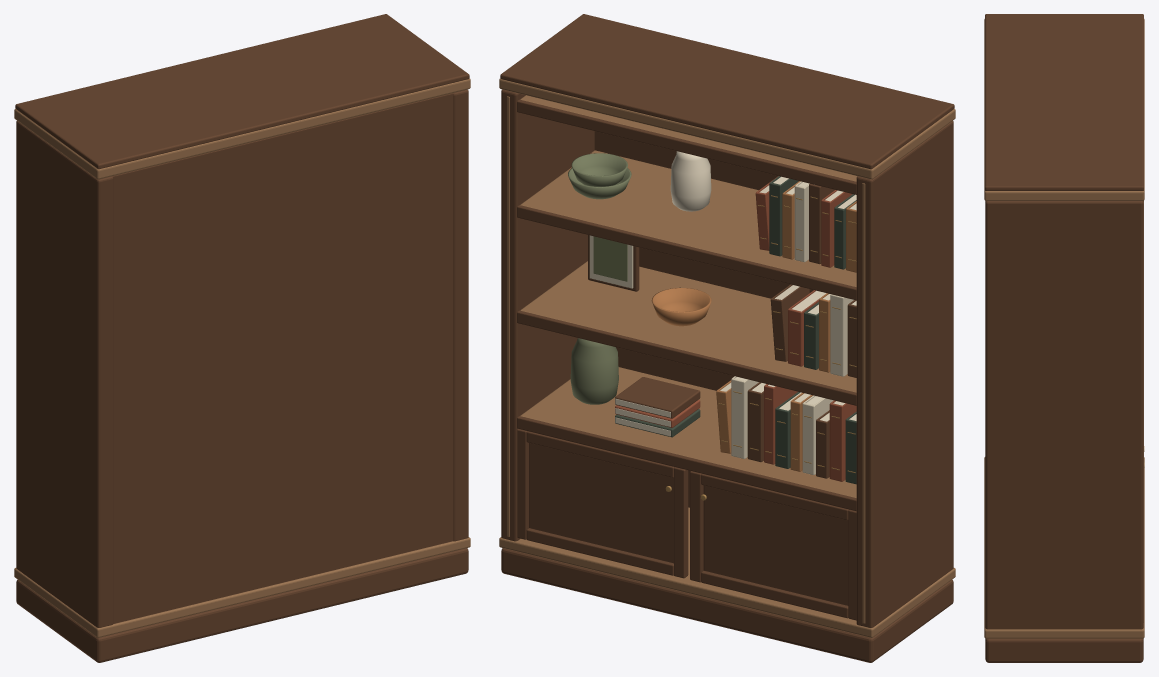
File: bookshelf.glb
3 views of the same model, side by side, from view 1: azimuth 30°, elevation 25°; view 2: azimuth 150°, elevation 25°; view 3: azimuth 270°, elevation 25° (orthographic). The views are drawn at different scales.
Visible parts, largest first — view 1: bookshelf__wood_walnut, bookshelf__wood_oak; view 2: bookshelf__wood_walnut, bookshelf__wood_oak, bookshelf__ceramic_ochre, bookshelf__fabric_terracotta, bookshelf__fabric_linen, bookshelf__paint_sage, bookshelf__ceramic_sage, bookshelf__ceramic_ivory, bookshelf__fabric_sage, bookshelf__metal_brass; view 3: bookshelf__wood_walnut, bookshelf__wood_oak.
Part boxes in pixels (x1=…): bookshelf__wood_walnut: x1=15, y1=14, x2=469, y2=662; bookshelf__wood_oak: x1=14, y1=78, x2=470, y2=637; bookshelf__wood_walnut: x1=500, y1=14, x2=954, y2=662; bookshelf__wood_oak: x1=499, y1=78, x2=955, y2=637; bookshelf__ceramic_ochre: x1=651, y1=181, x2=856, y2=471; bookshelf__fabric_terracotta: x1=615, y1=176, x2=856, y2=481; bookshelf__fabric_linen: x1=589, y1=181, x2=853, y2=474; bookshelf__paint_sage: x1=615, y1=176, x2=856, y2=484; bookshelf__ceramic_sage: x1=568, y1=153, x2=631, y2=404; bookshelf__ceramic_ivory: x1=615, y1=151, x2=856, y2=436; bookshelf__fabric_sage: x1=593, y1=236, x2=627, y2=281; bookshelf__metal_brass: x1=665, y1=195, x2=856, y2=500; bookshelf__wood_walnut: x1=985, y1=14, x2=1143, y2=662; bookshelf__wood_oak: x1=984, y1=19, x2=1144, y2=638.
Size of the model in its own units: 1.8 by 2.3 by 0.7.
